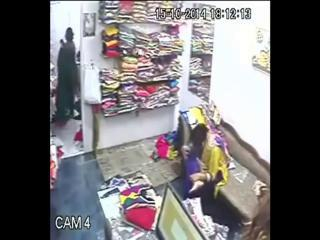Normal: (54, 28, 80, 120)
